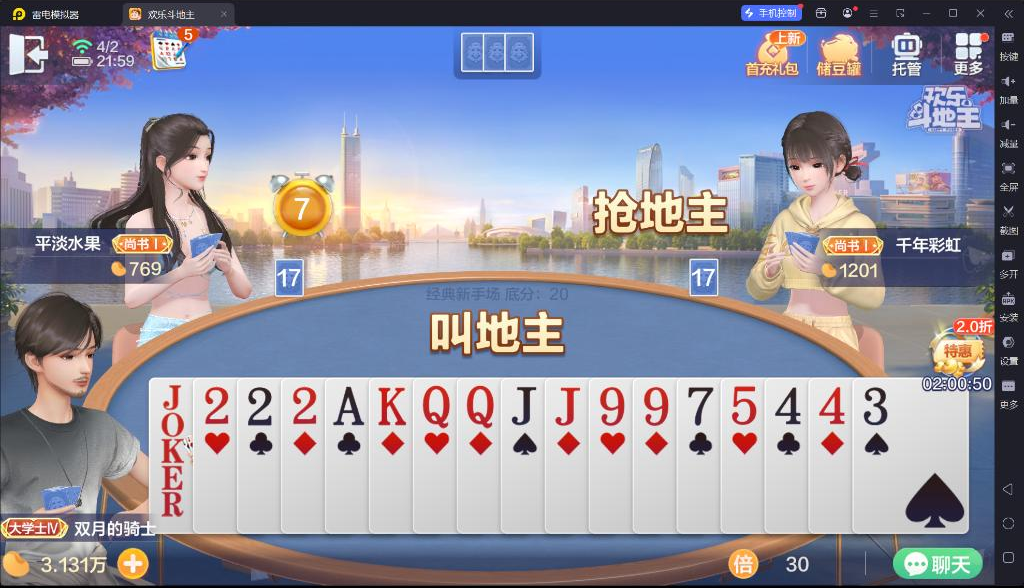A: (331, 382, 366, 428)
J: (508, 384, 540, 428), (551, 384, 583, 427)
JOKER: (159, 381, 186, 473)
K: (375, 383, 409, 428)
Q: (419, 382, 452, 430), (463, 381, 495, 430)
five: (726, 382, 760, 426)
four: (815, 384, 849, 426), (771, 384, 804, 427)
nine: (639, 384, 669, 428), (596, 384, 626, 427)
seven: (683, 382, 715, 428)
three: (860, 383, 890, 427)
two: (243, 381, 276, 427), (287, 382, 321, 426), (201, 382, 233, 426)
